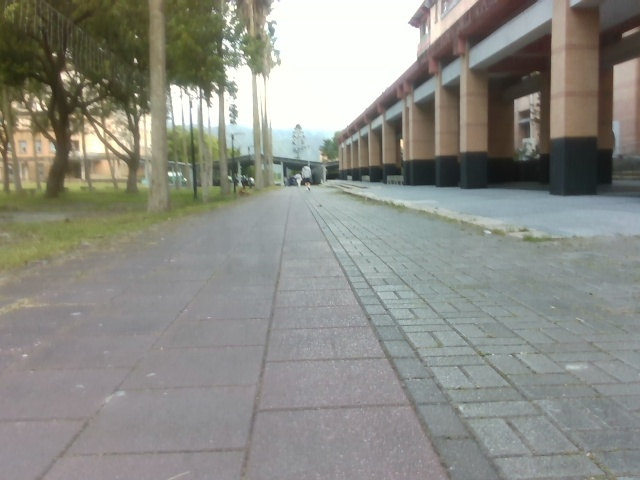grass: (0, 0, 280, 207), (0, 182, 277, 278)
road: (0, 185, 639, 479)
sidewalk: (325, 180, 639, 262)
